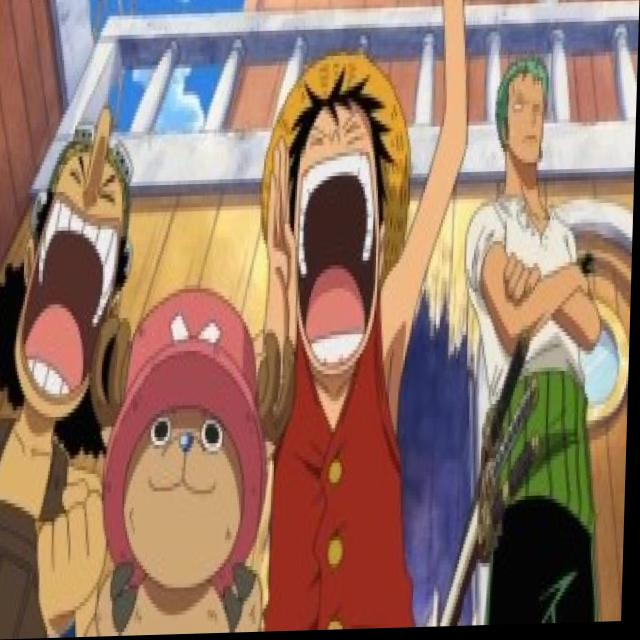Chyopa: (90, 278, 277, 637)
Luffy: (259, 46, 414, 390)
Usopp: (1, 109, 142, 439)
Zoro: (492, 53, 555, 190)
